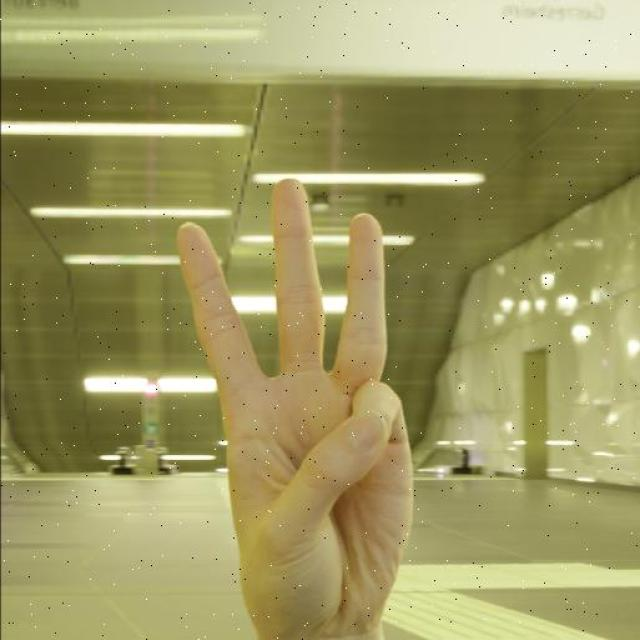W: (172, 175, 417, 640)
